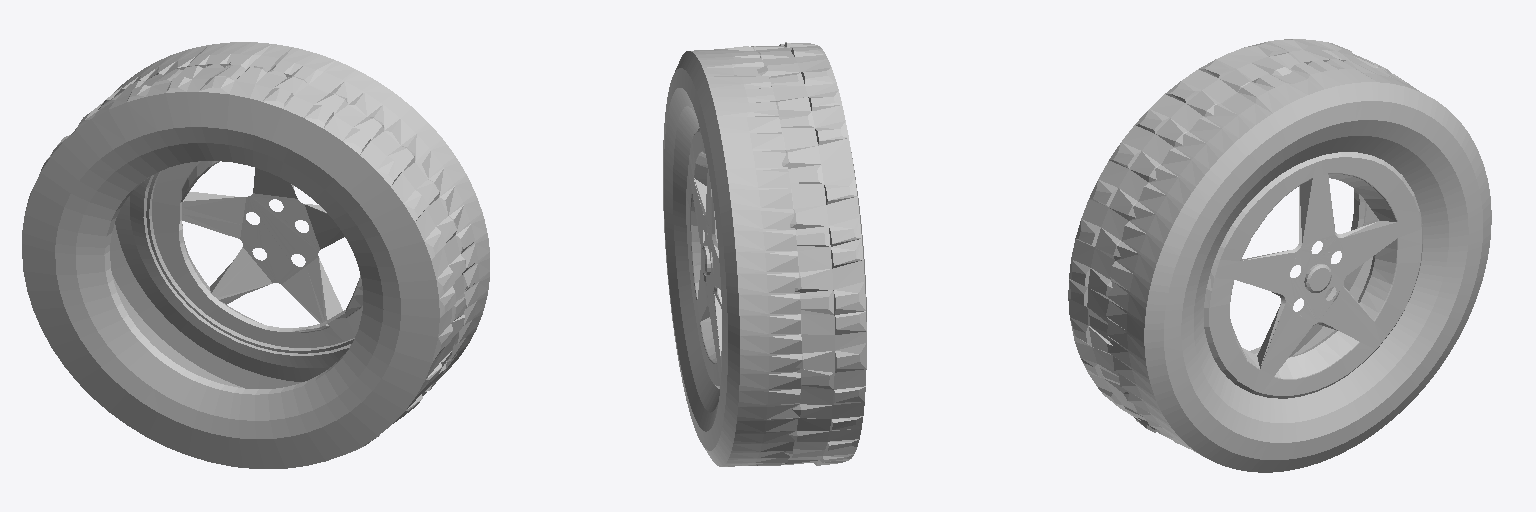
The model's file is llantaIzq.obj.
3 renders of one model, left to right at view 1: azimuth 30°, elevation 25°; view 2: azimuth 150°, elevation 25°; view 3: azimuth 270°, elevation 25°, orthographic.
Parts seen in each view (by area): view 1: polySurface289; view 2: polySurface289; view 3: polySurface289.
Part boxes in pixels (bbox=[...]): polySurface289: bbox=[22, 42, 489, 468]; polySurface289: bbox=[663, 42, 866, 466]; polySurface289: bbox=[1068, 39, 1491, 472].
Size of the model in its own units: 0.3382 by 0.3665 by 0.3721.